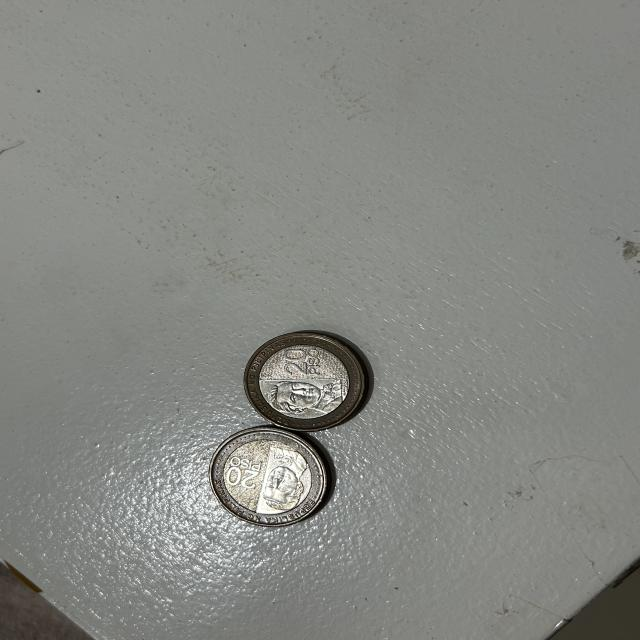20_New_Front: (276, 347, 334, 382), (221, 451, 264, 493)
